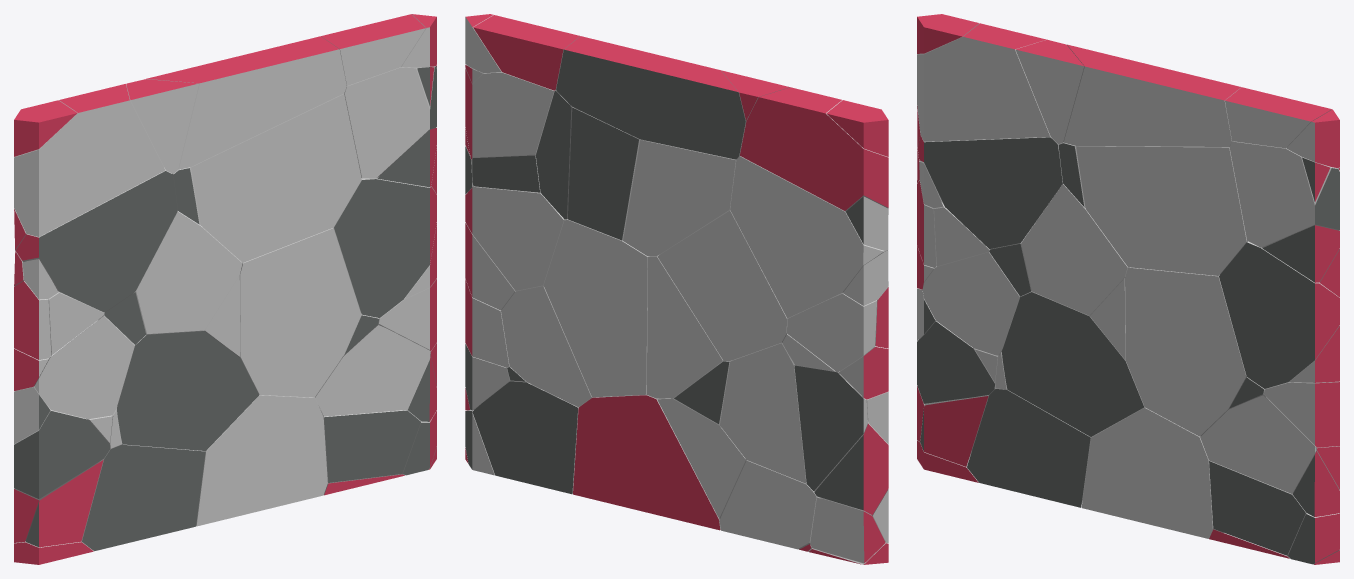
File: glass_scattered.fbx
3 renders of one model, left to right at view 1: azimuth 30°, elevation 25°; view 2: azimuth 150°, elevation 25°; view 3: azimuth 330°, elevation 25°, orthographic.
Visible parts, largest first — view 1: Cube_cell.053, Cube_cell.041, Cube_cell.031, Cube_cell.052, Cube_cell.020, Cube_cell.019, Cube_cell.008, Cube_cell.017, Cube_cell.016, Cube_cell.050, Cube_cell.032, Cube_cell.044 (+25 smaller); view 2: Cube_cell.020, Cube_cell.041, Cube_cell.008, Cube_cell.019, Cube_cell.031, Cube_cell.050, Cube_cell.048, Cube_cell.012, Cube_cell.038, Cube_cell.017, Cube_cell.053, Cube_cell.011 (+26 smaller); view 3: Cube_cell.053, Cube_cell.041, Cube_cell.052, Cube_cell.020, Cube_cell.019, Cube_cell.031, Cube_cell.008, Cube_cell.017, Cube_cell.016, Cube_cell.050, Cube_cell.032, Cube_cell.044 (+26 smaller).
Boxes of the visible parts, x1=… form: Cube_cell.053: x1=191, y1=93, x2=361, y2=262; Cube_cell.041: x1=239, y1=228, x2=361, y2=397; Cube_cell.031: x1=14, y1=84, x2=165, y2=236; Cube_cell.052: x1=117, y1=331, x2=258, y2=450; Cube_cell.020: x1=146, y1=36, x2=346, y2=169; Cube_cell.019: x1=196, y1=395, x2=327, y2=526; Cube_cell.008: x1=15, y1=167, x2=177, y2=312; Cube_cell.017: x1=333, y1=177, x2=436, y2=317; Cube_cell.016: x1=81, y1=444, x2=205, y2=551; Cube_cell.050: x1=98, y1=211, x2=242, y2=334; Cube_cell.032: x1=344, y1=66, x2=436, y2=178; Cube_cell.044: x1=315, y1=325, x2=430, y2=416; Cube_cell.020: x1=556, y1=36, x2=745, y2=159; Cube_cell.041: x1=543, y1=219, x2=648, y2=397; Cube_cell.008: x1=730, y1=156, x2=887, y2=318; Cube_cell.019: x1=573, y1=394, x2=720, y2=530; Cube_cell.031: x1=740, y1=87, x2=888, y2=211; Cube_cell.050: x1=657, y1=209, x2=787, y2=361; Cube_cell.048: x1=623, y1=140, x2=736, y2=256; Cube_cell.012: x1=472, y1=381, x2=579, y2=494; Cube_cell.038: x1=720, y1=343, x2=806, y2=483; Cube_cell.017: x1=465, y1=186, x2=564, y2=291; Cube_cell.053: x1=567, y1=103, x2=648, y2=240; Cube_cell.011: x1=646, y1=255, x2=722, y2=398; Cube_cell.053: x1=1076, y1=146, x2=1247, y2=275; Cube_cell.041: x1=1125, y1=267, x2=1246, y2=436; Cube_cell.052: x1=1001, y1=292, x2=1144, y2=436; Cube_cell.020: x1=1063, y1=44, x2=1241, y2=146; Cube_cell.019: x1=1081, y1=407, x2=1223, y2=538; Cube_cell.031: x1=917, y1=23, x2=1050, y2=141; Cube_cell.008: x1=917, y1=135, x2=1062, y2=249; Cube_cell.017: x1=1219, y1=241, x2=1339, y2=388; Cube_cell.016: x1=967, y1=389, x2=1090, y2=507; Cube_cell.050: x1=1020, y1=184, x2=1127, y2=315; Cube_cell.032: x1=1229, y1=141, x2=1339, y2=247; Cube_cell.044: x1=1200, y1=395, x2=1316, y2=493.
Bounding box in the file's own units: 200 × 200 × 14.8.
